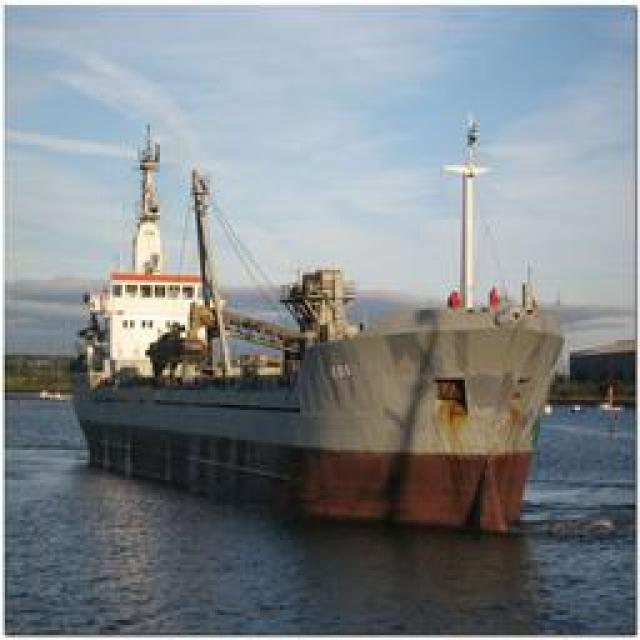CIV_Ship: (70, 104, 565, 522)
